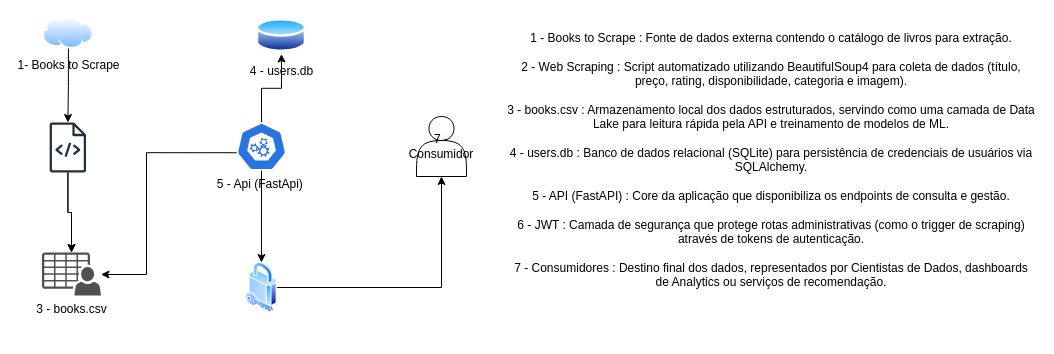
Image size: 1054x354. Some labels were removed from this diagram. The shapes that lost their labels are listed below. From the top down, each one's box as (x1, y1, x2, y2) in pixels, then its label:
(49, 122, 86, 172): 2- Web Scraping
(245, 262, 277, 312): 6 - JWT
